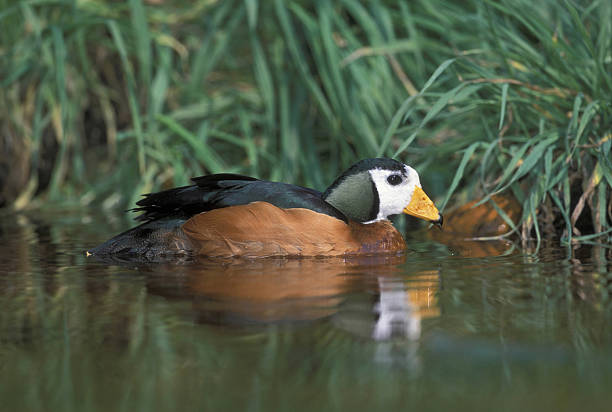goose: (67, 157, 450, 295)
